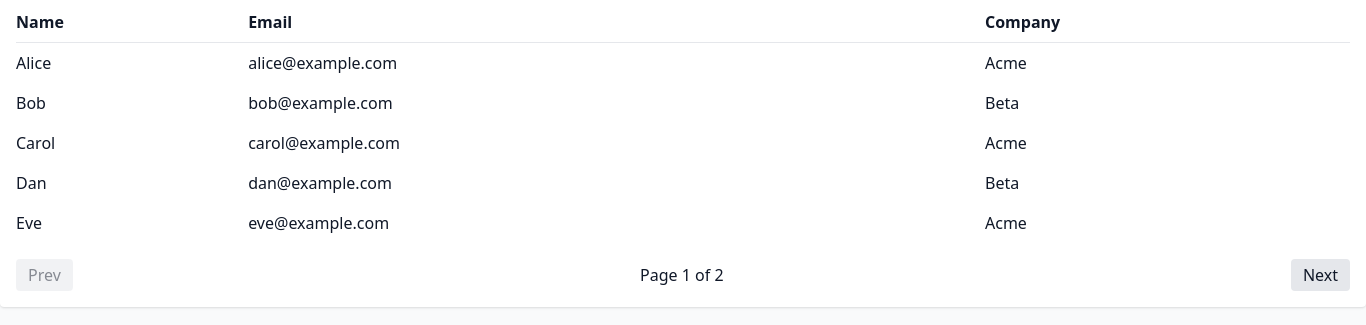
Scenario: UserList › navigates to next page
Click the button "Next" at (1320, 275), box x1=1291 y1=259 x2=1350 y2=291
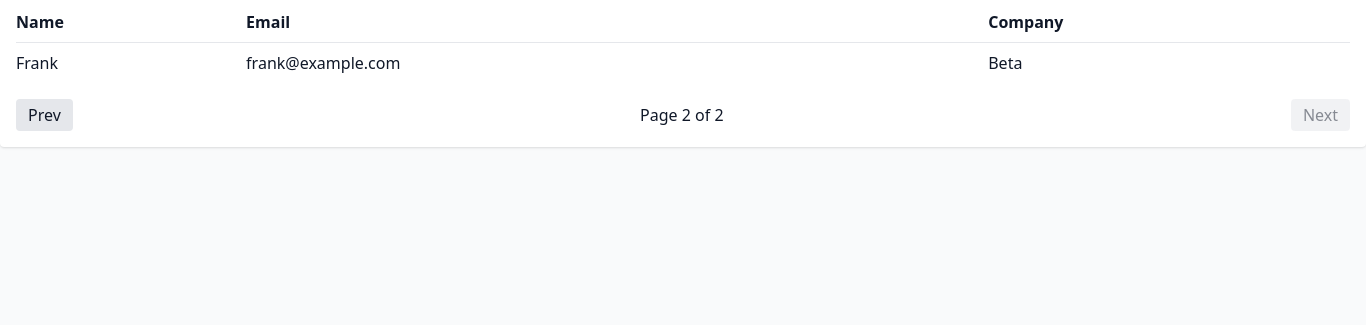
Expected: the text "Frank" is shown, x1=16 y1=42 x2=246 y2=83
Expected: the text "Alice" is gone
